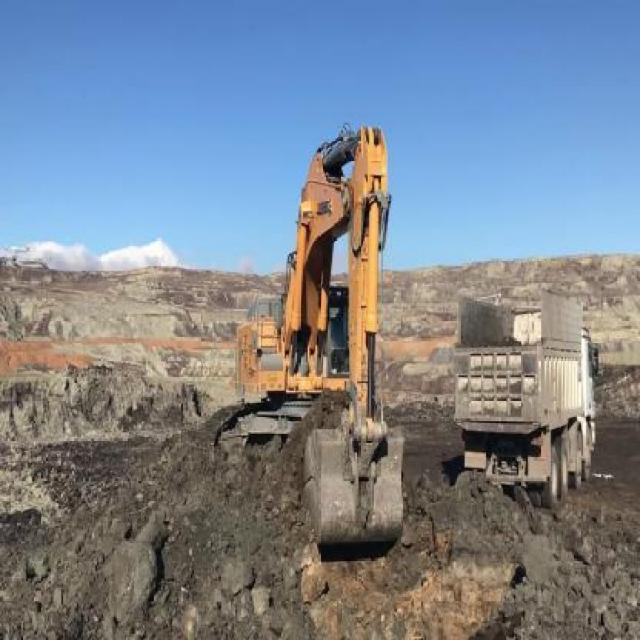Dump Truck: (454, 290, 598, 512)
Excavator: (213, 120, 404, 552)
